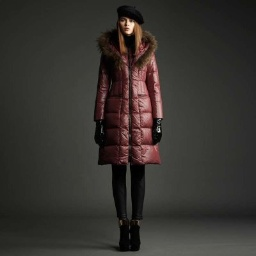face: (109, 12, 149, 55)
